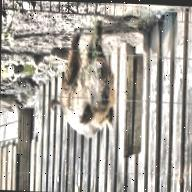boar: (52, 17, 122, 149)
